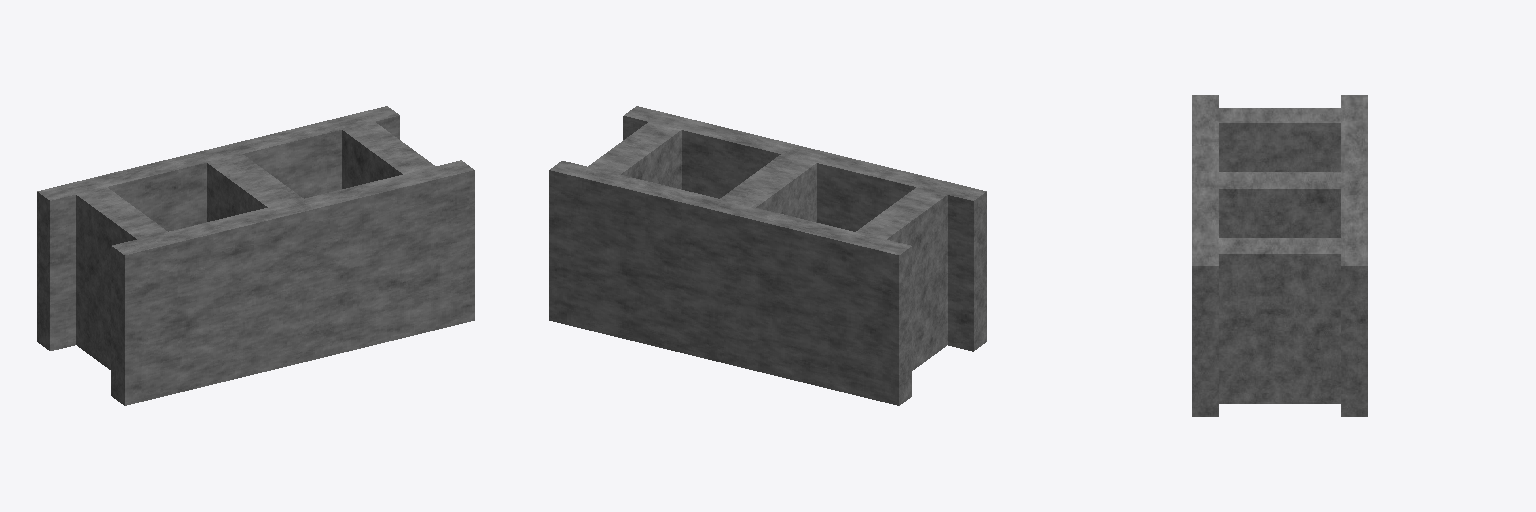
3 views of the same model, side by side, from view 1: azimuth 30°, elevation 25°; view 2: azimuth 150°, elevation 25°; view 3: azimuth 270°, elevation 25° (orthographic).
Parts seen in each view (by area): view 1: Cubo; view 2: Cubo; view 3: Cubo.
Boxes of the visible parts, x1=… form: Cubo: x1=37, y1=106, x2=474, y2=405; Cubo: x1=549, y1=106, x2=986, y2=405; Cubo: x1=1192, y1=95, x2=1367, y2=416.
Size of the model in its own units: 3.23 by 1.33 by 1.4.
1 materials, 1 textured.